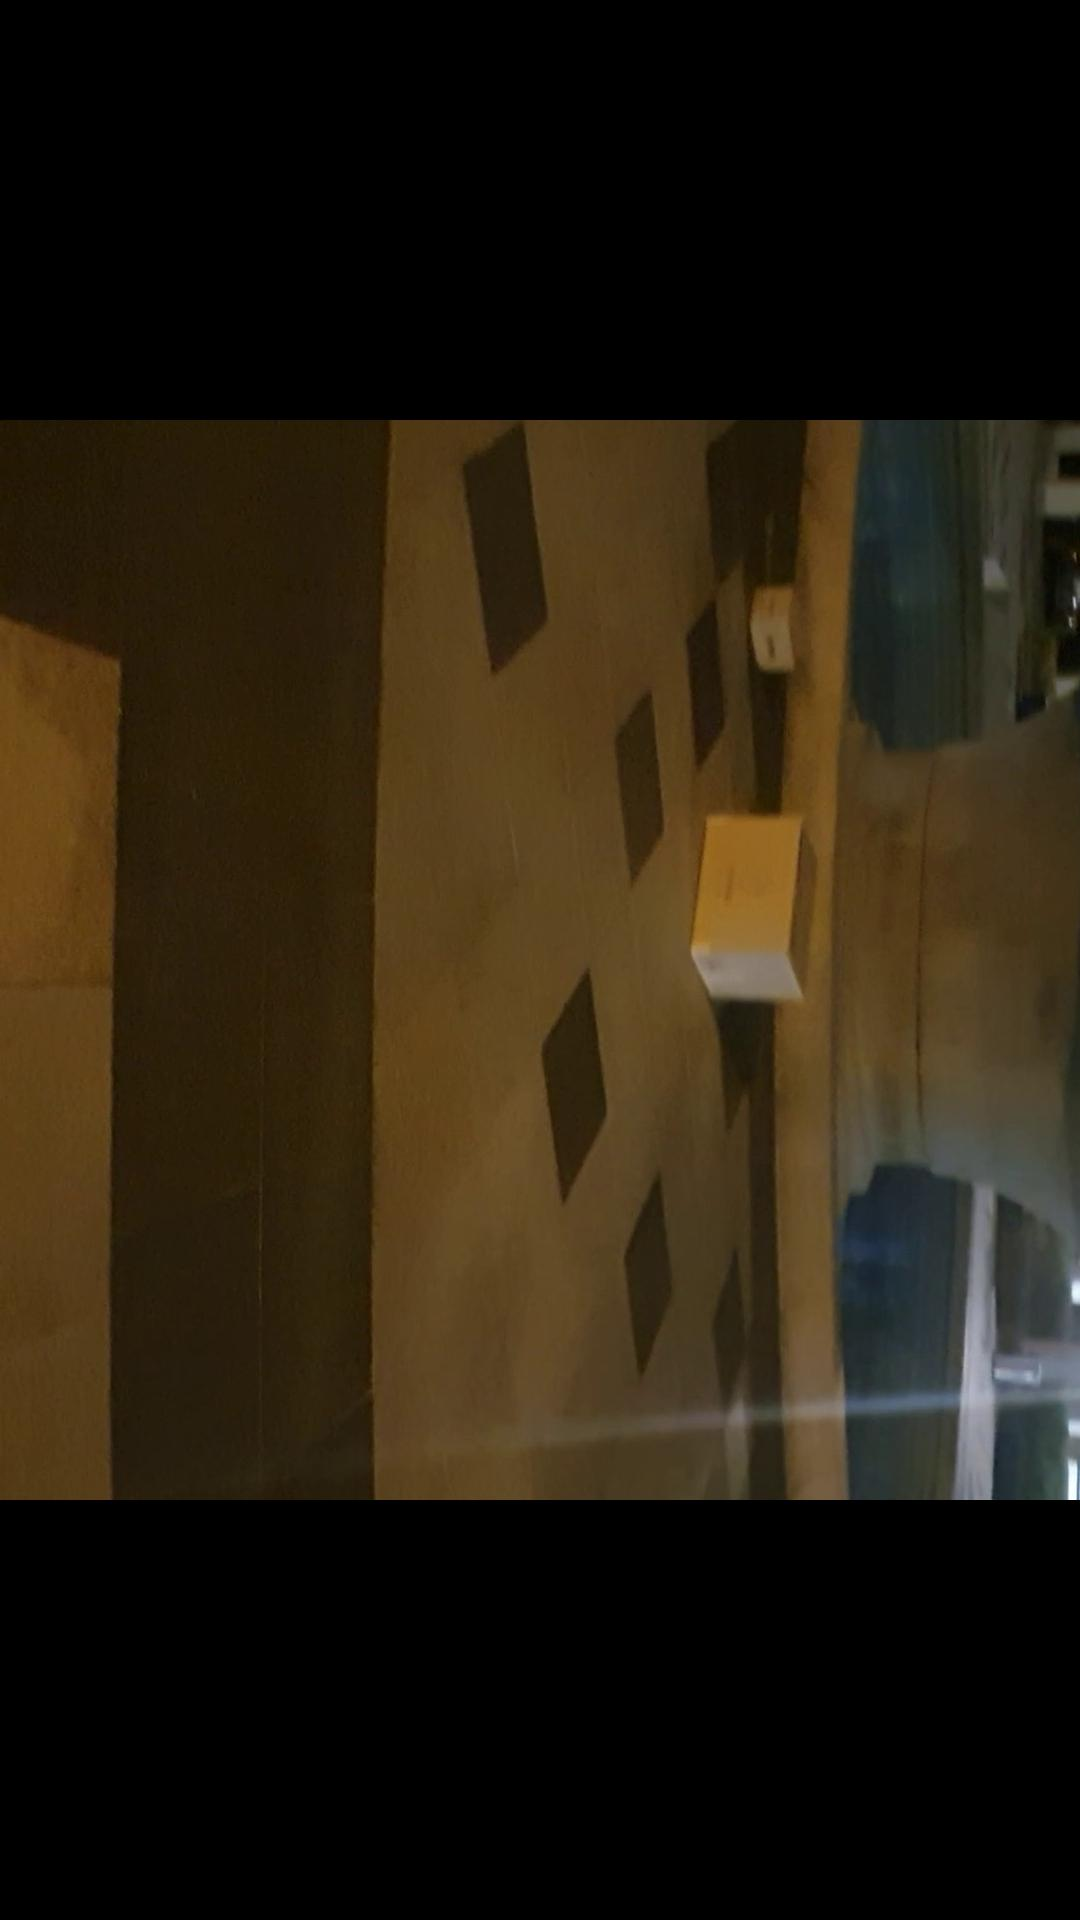Box: (682, 808, 827, 1015), (740, 576, 812, 680)
